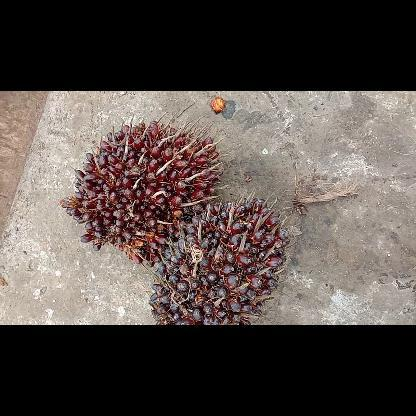Kurang masak: (147, 196, 291, 324)
TBS masak: (60, 119, 218, 267)
